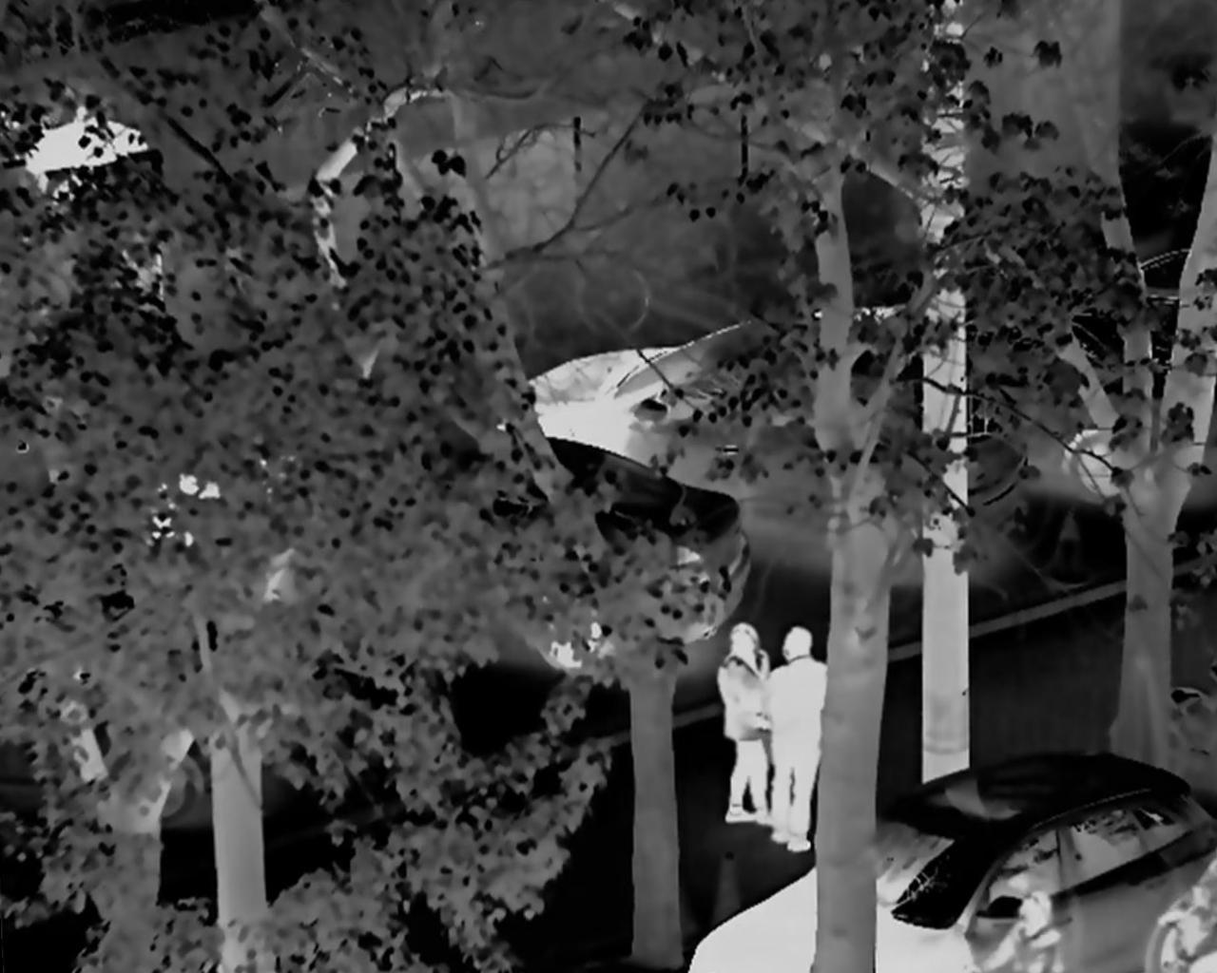person: (764, 620, 834, 863), (708, 618, 778, 831), (983, 886, 1067, 973)
